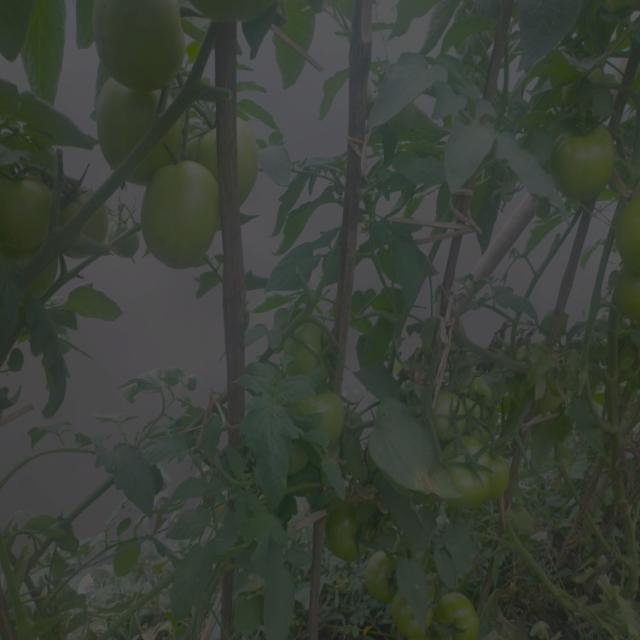tomato: (141, 152, 229, 273), (92, 1, 190, 92), (95, 77, 187, 173), (554, 113, 616, 199), (1, 169, 44, 255), (283, 316, 330, 385), (447, 437, 496, 502), (231, 125, 267, 206), (324, 509, 368, 566), (315, 389, 354, 446), (442, 592, 484, 640), (613, 201, 640, 271), (434, 384, 466, 435), (366, 553, 398, 603), (622, 268, 640, 331), (56, 174, 80, 220)
